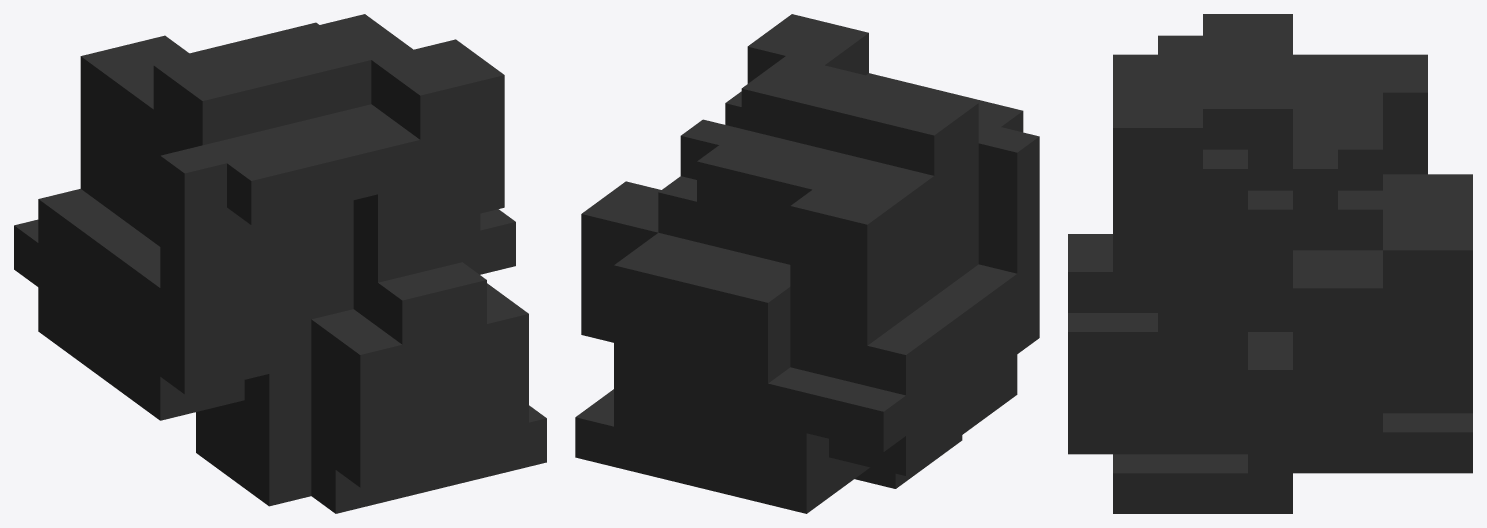
Rendered from asteroid.fbx.
3 renders of one model, left to right at view 1: azimuth 30°, elevation 25°; view 2: azimuth 150°, elevation 25°; view 3: azimuth 270°, elevation 25°, orthographic. The views are drawn at different scales.
Parts seen in each view (by area): view 1: asteroid; view 2: asteroid; view 3: asteroid.
Boxes of the visible parts, x1=… form: asteroid: x1=14, y1=14, x2=546, y2=513; asteroid: x1=575, y1=14, x2=1039, y2=513; asteroid: x1=1068, y1=14, x2=1472, y2=513.
Bounding box in the file's own units: 900 × 900 × 900.
Materials: 1 (1 with a texture image).
